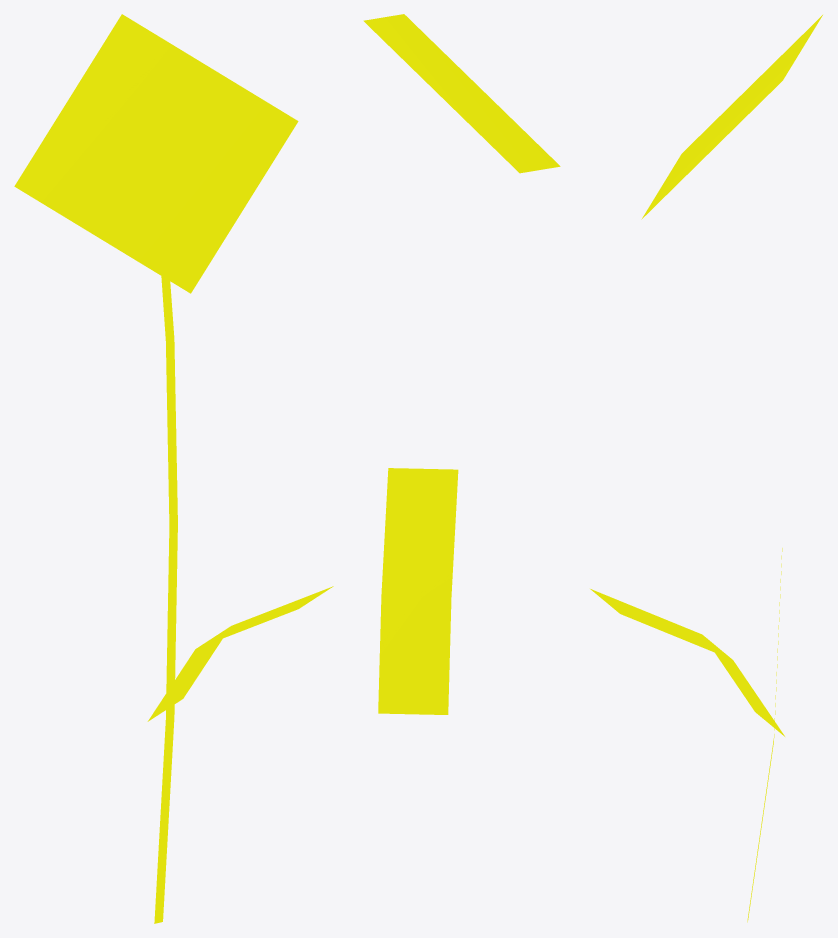
The model's file is Foliage_Flowers_White_Flower_White_Low.glb.
3 views of the same model, side by side, from view 1: azimuth 30°, elevation 25°; view 2: azimuth 150°, elevation 25°; view 3: azimuth 270°, elevation 25° (orthographic). The views are drawn at different scales.
Visible parts, largest first — view 1: Flower.Low.LOD.002; view 2: Flower.Low.LOD.002; view 3: Flower.Low.LOD.002.
Part boxes in pixels (<box>): Flower.Low.LOD.002: <box>14,14,333,923</box>; Flower.Low.LOD.002: <box>363,14,560,714</box>; Flower.Low.LOD.002: <box>590,15,822,922</box>.
Bounding box in the file's own units: 0.0658 × 0.2299 × 0.0538.
1 material, 1 textured.
